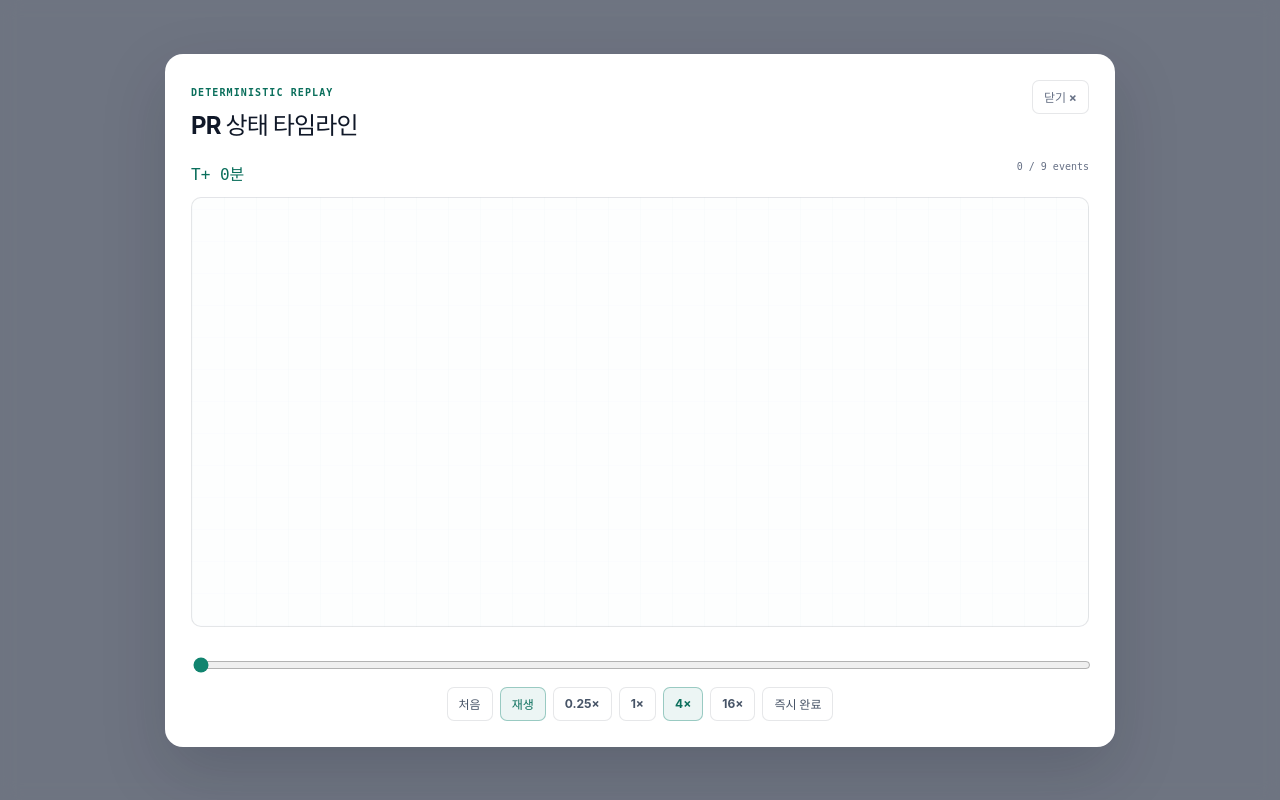
Test: renders replay legend status names in Korean
Click the button "즉시 완료". click: (798, 704)
box: [762,686,833,720]
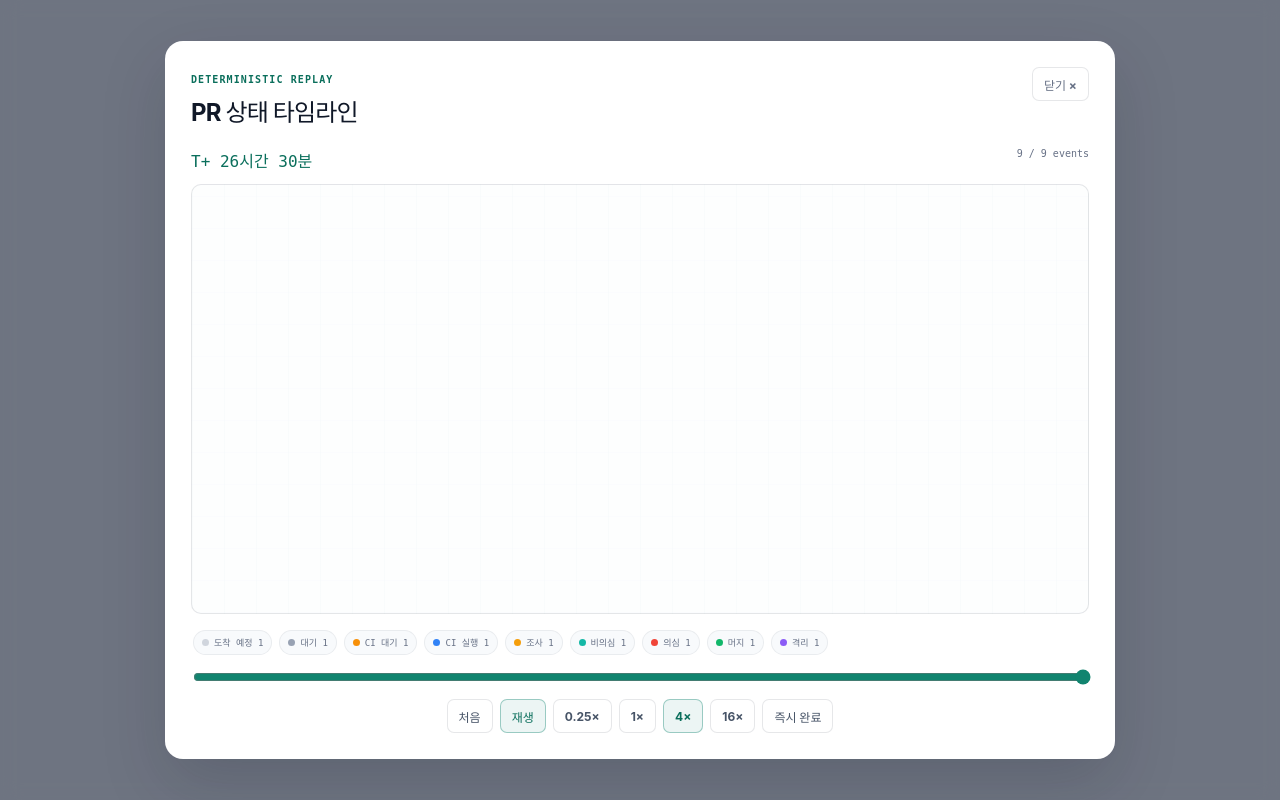
Now the text "T+ 26시간 30분" is shown, box [191,148,312,172]
